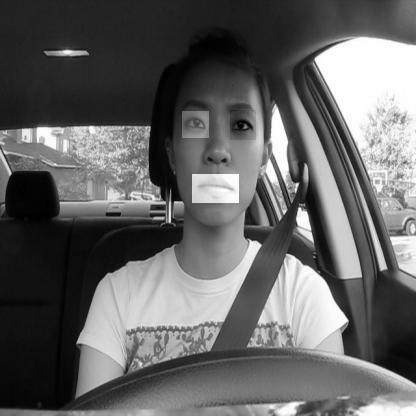seatbelt: (145, 24, 286, 348)
